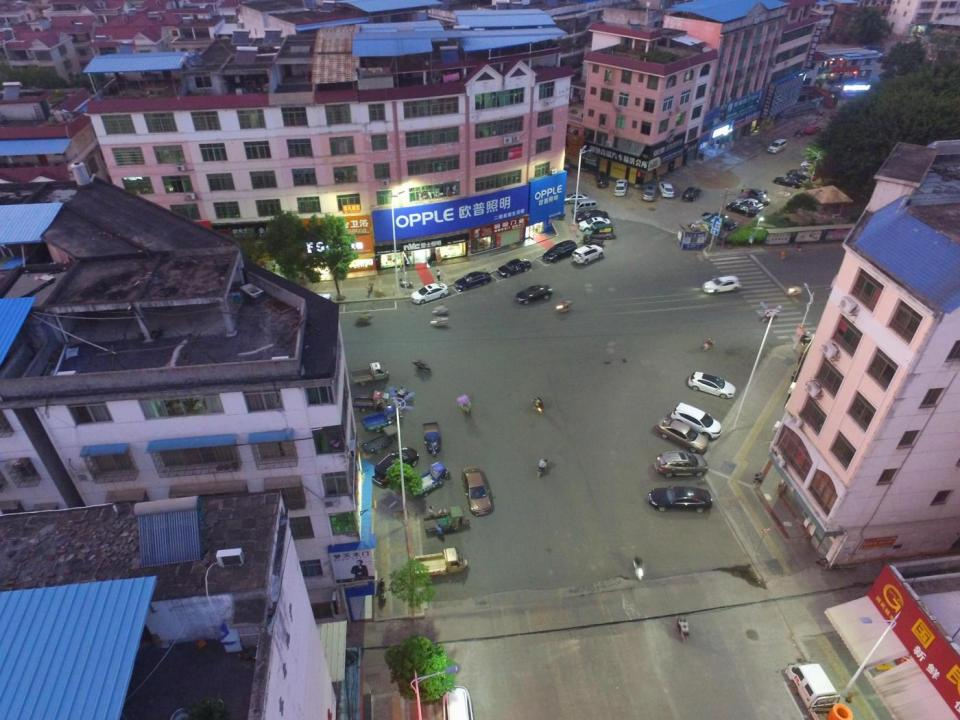car: (369, 446, 419, 488), (655, 416, 710, 453), (648, 484, 713, 514), (670, 402, 722, 439), (461, 465, 492, 516), (653, 450, 708, 478), (687, 371, 737, 399), (515, 283, 554, 305), (410, 283, 449, 305), (543, 239, 578, 263), (454, 270, 492, 292), (701, 275, 742, 294), (497, 258, 532, 278), (571, 244, 604, 265), (725, 202, 760, 218), (578, 217, 611, 231), (787, 168, 818, 182), (562, 191, 592, 205), (732, 198, 764, 211), (575, 210, 609, 222), (746, 188, 771, 204), (774, 176, 804, 189), (682, 185, 702, 202), (800, 159, 823, 172), (657, 181, 674, 198), (594, 170, 609, 188), (642, 184, 657, 202), (614, 178, 628, 196), (803, 123, 822, 135)
truck: (784, 653, 854, 720), (700, 212, 739, 231)
van: (441, 685, 474, 720), (584, 223, 614, 240), (572, 198, 597, 214), (768, 138, 788, 154)
